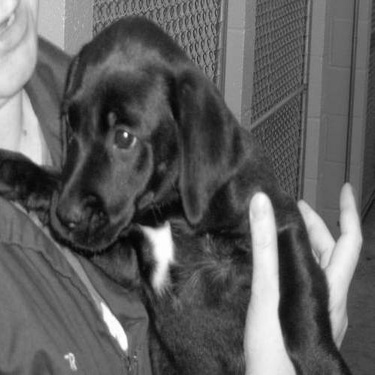dog: (2, 11, 356, 371)
